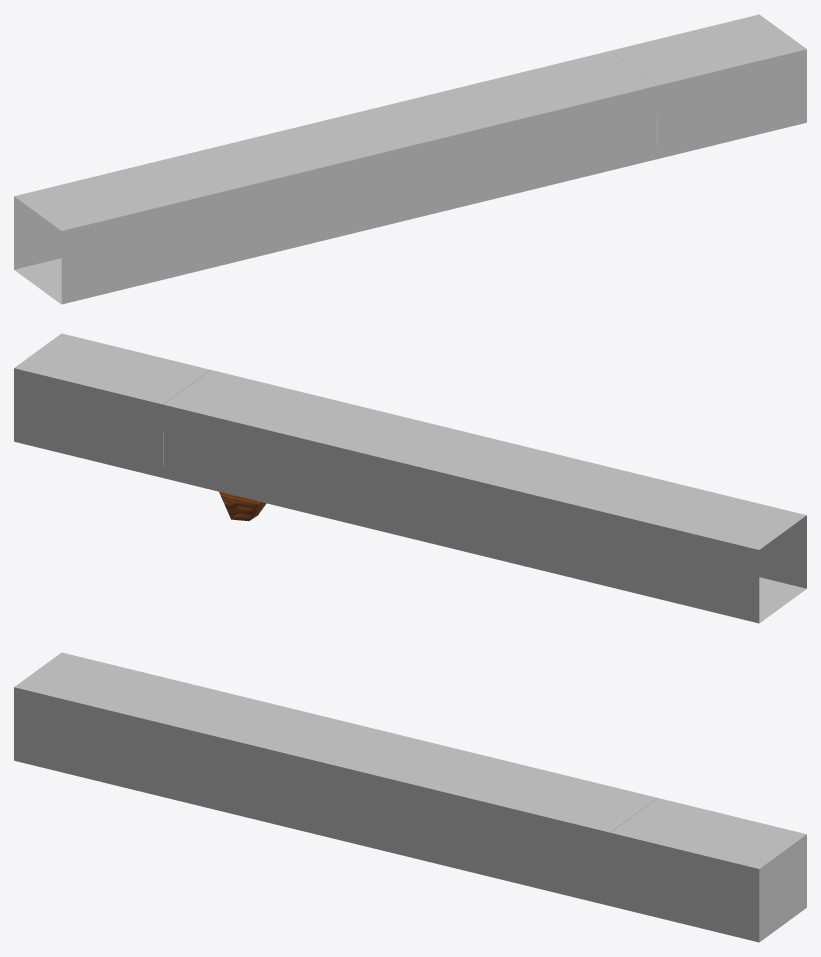
3 renders of one model, top to bottom at view 1: azimuth 30°, elevation 25°; view 2: azimuth 150°, elevation 25°; view 3: azimuth 330°, elevation 25°, orthographic.
Parts seen in each view (by area): view 1: hall2.012, hall2.001, hall2.010, Camino.002, hall2.002; view 2: hall2.012, hall2.001, hall2.010, hall2.002, Camino.002, Camino.003; view 3: hall2.001, Camino.002, hall2.010, hall2.012, hall2.002.
Part boxes in pixels (x1=…): hall2.012: x1=14, y1=160, x2=210, y2=304; hall2.001: x1=610, y1=14, x2=806, y2=158; hall2.010: x1=163, y1=123, x2=359, y2=267; Camino.002: x1=461, y1=51, x2=657, y2=195; hall2.002: x1=312, y1=87, x2=508, y2=231; hall2.012: x1=610, y1=479, x2=806, y2=623; hall2.001: x1=14, y1=333, x2=210, y2=477; hall2.010: x1=461, y1=442, x2=657, y2=586; hall2.002: x1=312, y1=406, x2=508, y2=550; Camino.002: x1=163, y1=370, x2=359, y2=514; Camino.003: x1=219, y1=492, x2=266, y2=520; hall2.001: x1=610, y1=798, x2=806, y2=942; Camino.002: x1=461, y1=761, x2=657, y2=905; hall2.010: x1=163, y1=689, x2=359, y2=833; hall2.012: x1=14, y1=652, x2=210, y2=796; hall2.002: x1=312, y1=725, x2=508, y2=869.
Bounding box in the file's own units: 7598 × 978 × 839.
